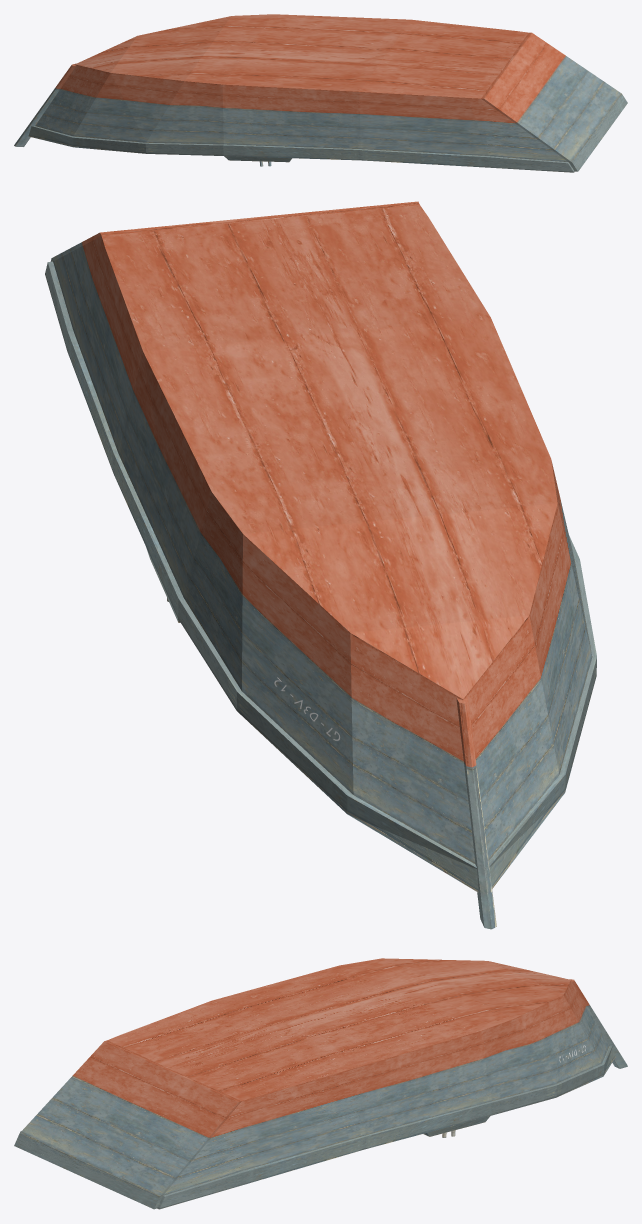
Rendered from sunk.obj.
3 views of the same model, one above another, from view 1: azimuth 30°, elevation 25°; view 2: azimuth 150°, elevation 25°; view 3: azimuth 270°, elevation 25° (orthographic). The views are drawn at different scales.
Parts seen in each view (by area): view 1: boat.004; view 2: boat.004; view 3: boat.004.
Part boxes in pixels (x1,y1,x2,y2): boat.004: (14,14,627,172); boat.004: (45,201,596,929); boat.004: (14,958,627,1209).
Bounding box in the file's own units: 2.42 × 0.7912 × 2.55.
1 material, 1 textured.
